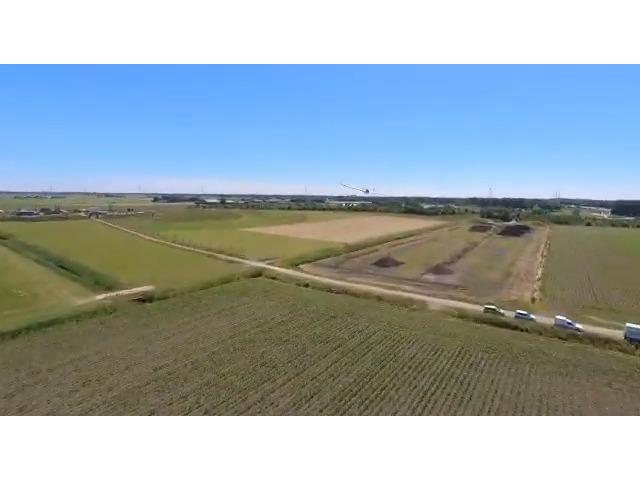Anti-Drone: (331, 173, 405, 207)
